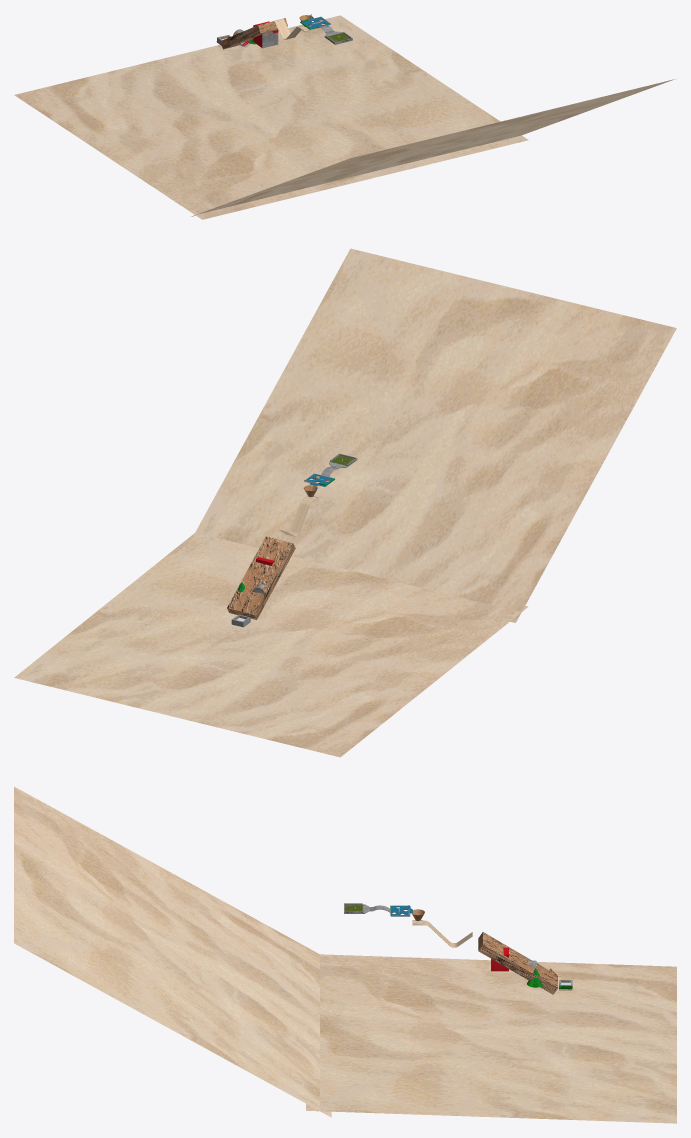
Rendered from sand_run-D-04XWw4.glb.
3 renders of one model, top to bottom at view 1: azimuth 30°, elevation 25°; view 2: azimuth 150°, elevation 25°; view 3: azimuth 270°, elevation 25°, orthographic.
Visible parts, largest first — view 1: background.solid.{}.001, background.solid.{}, Cube.solid.{}, Cube001.solid.{}, course.solid.{}, sol002.solid.{}; view 2: background.solid.{}, background.solid.{}.001, Cube.solid.{}; view 3: background.solid.{}.001, background.solid.{}, Cube.solid.{}.
Part boxes in pixels (box(x1,y1,x2,y2)): background.solid.{}.001: box(14, 15, 528, 219); background.solid.{}: box(191, 79, 675, 216); Cube.solid.{}: box(220, 18, 287, 49); Cube001.solid.{}: box(253, 21, 278, 48); course.solid.{}: box(316, 25, 352, 44); sol002.solid.{}: box(274, 19, 313, 39); background.solid.{}: box(195, 248, 676, 622); background.solid.{}.001: box(14, 532, 528, 757); Cube.solid.{}: box(227, 536, 295, 619); background.solid.{}.001: box(306, 954, 676, 1123); background.solid.{}: box(14, 786, 331, 1117); Cube.solid.{}: box(478, 932, 557, 994).
Bounding box in the file's own units: 555 × 297 × 991.
Materials: 2 (2 with a texture image).
